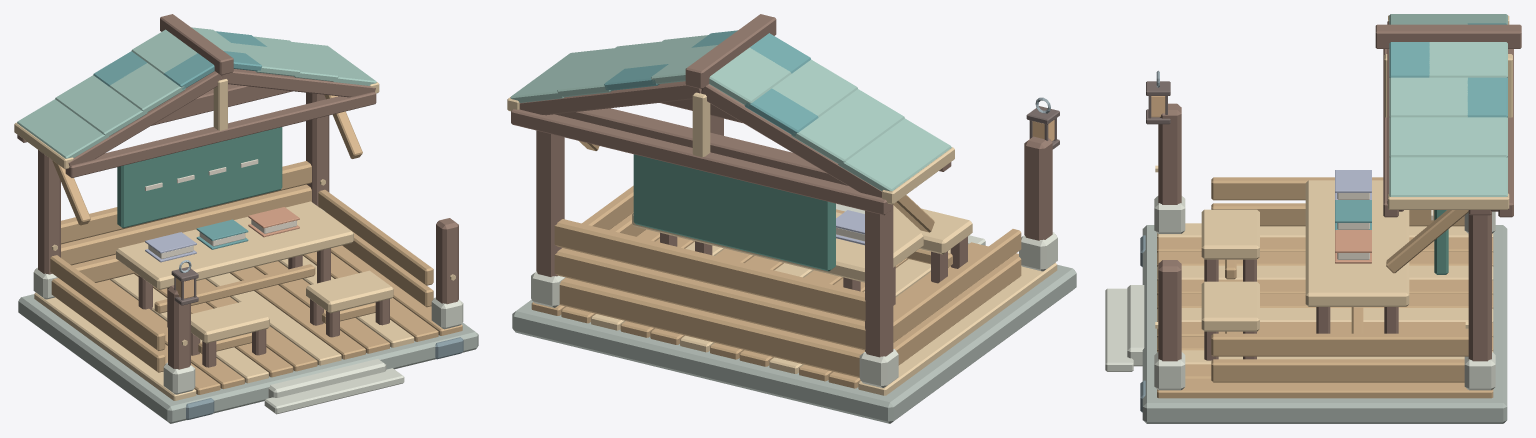
Rendered from school.fbx.
The picture shows the model from 3 angles, left to right: view 1: azimuth 30°, elevation 25°; view 2: azimuth 150°, elevation 25°; view 3: azimuth 270°, elevation 25°; orthographic projection. The views are drawn at different scales.
Parts seen in each view (by area): view 1: school_mesh; view 2: school_mesh; view 3: school_mesh.
Part boxes in pixels (x1,y1,x2,y2): school_mesh: (14,14,478,423); school_mesh: (507,14,1076,423); school_mesh: (1105,14,1521,423).
Bounding box in the file's own units: 3.37 × 2.62 × 3.22.
